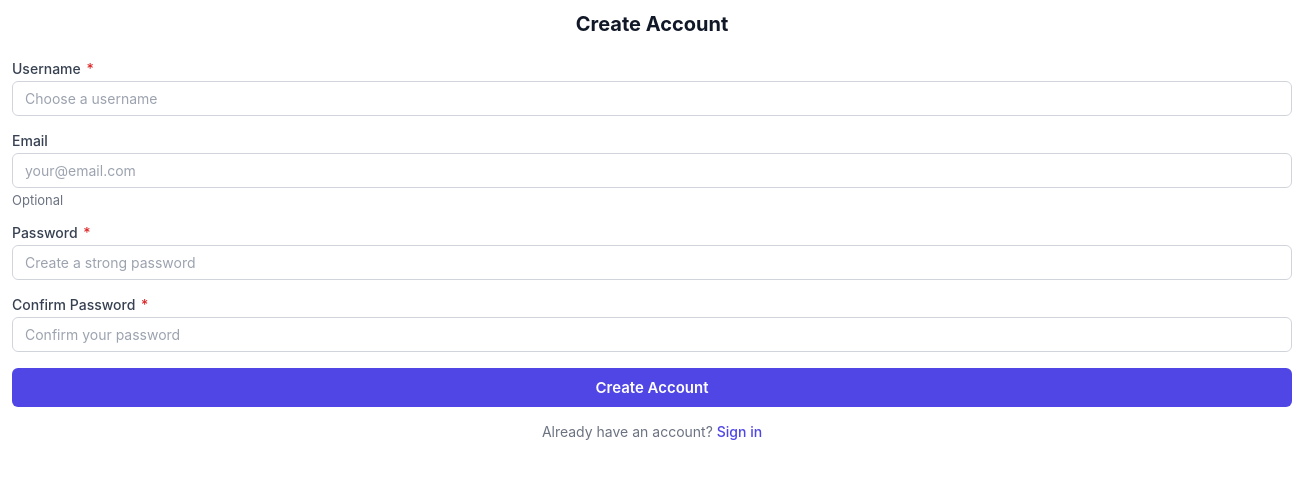
Test: SignUpPage › shows error when passwords do not match
Type "testuser" into the field with placeholder "Choose a username" at point(652, 98), box [12,81,1292,116]
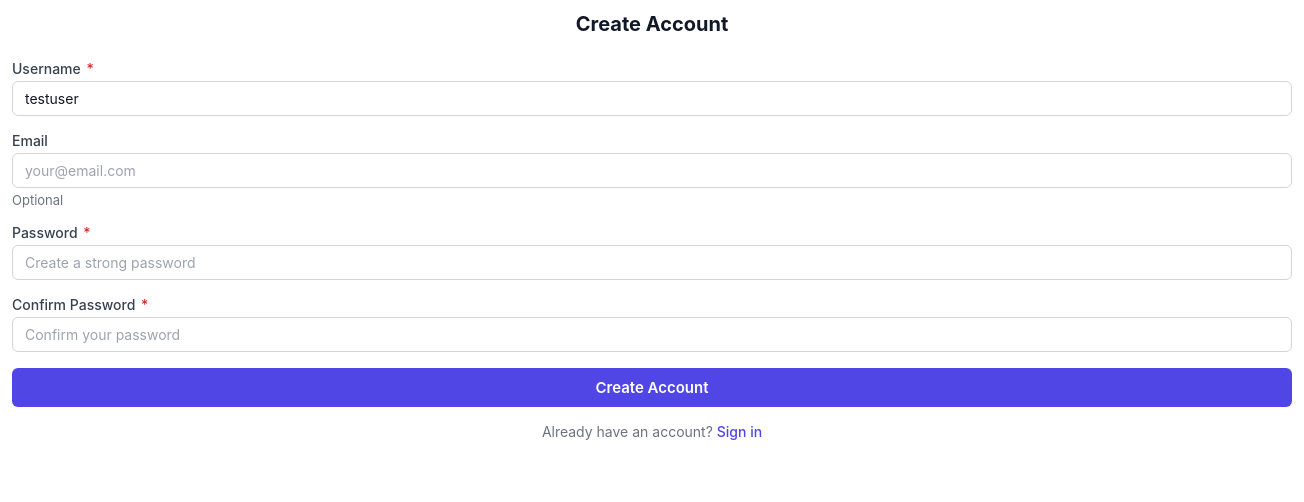
Type "StrongPass1" into the password field with placeholder "Create a strong password" at point(652, 262), box [12,245,1292,280]
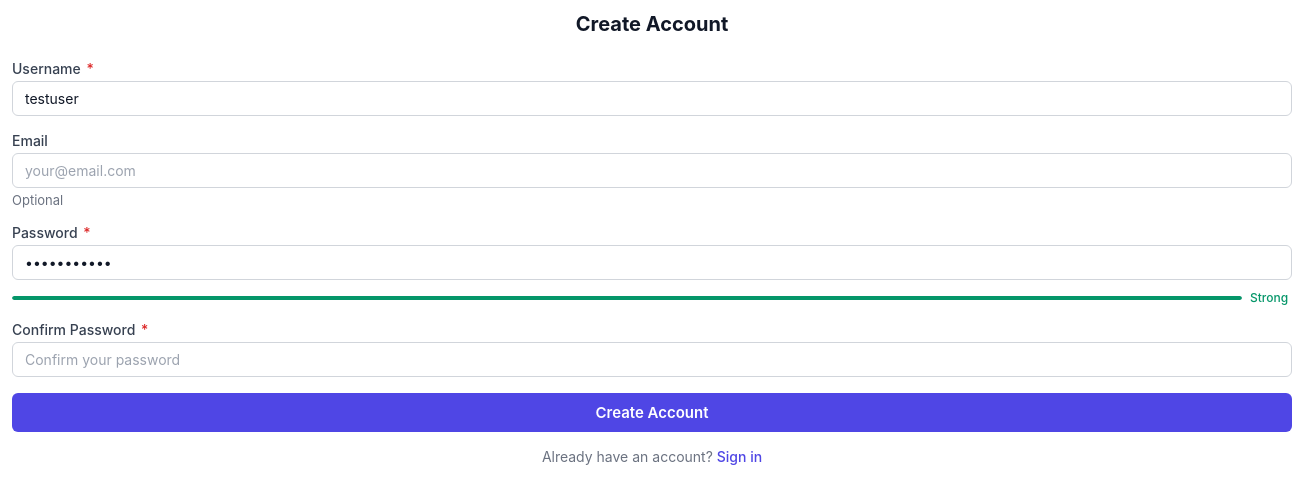
Type "DifferentPass1" into the password field with placeholder "Confirm your password" at point(652, 360), box [12,342,1292,377]
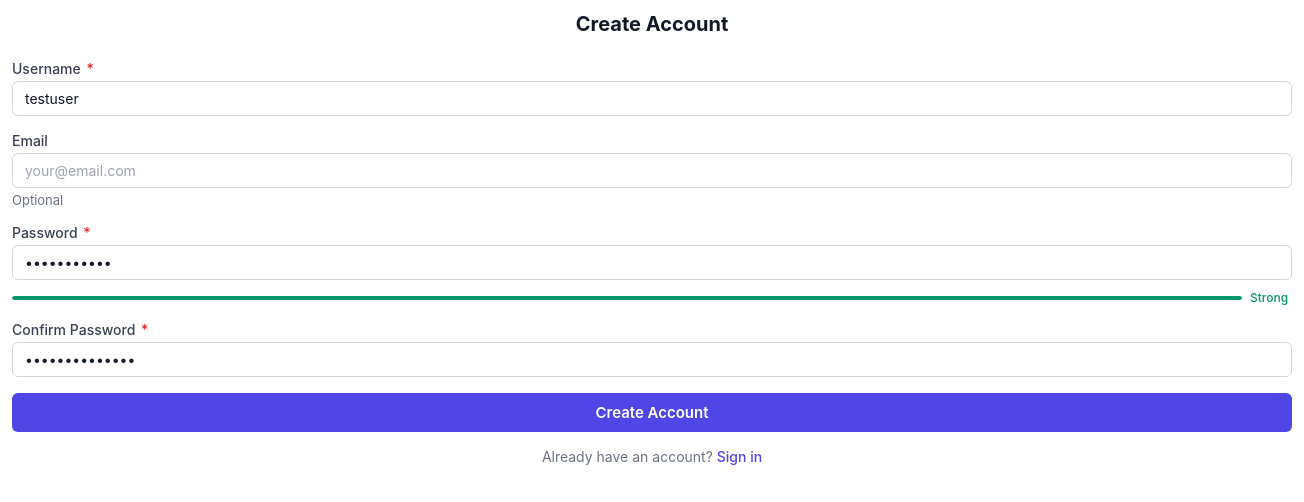
Submit the form
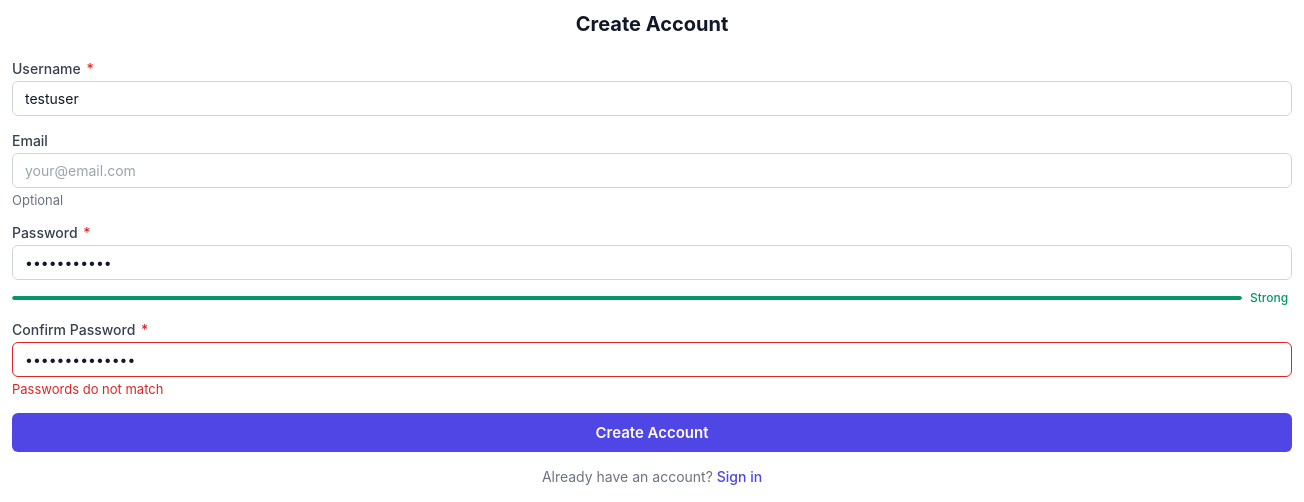
Expected: the text "Passwords do not match" is shown, [12,381,163,397]
